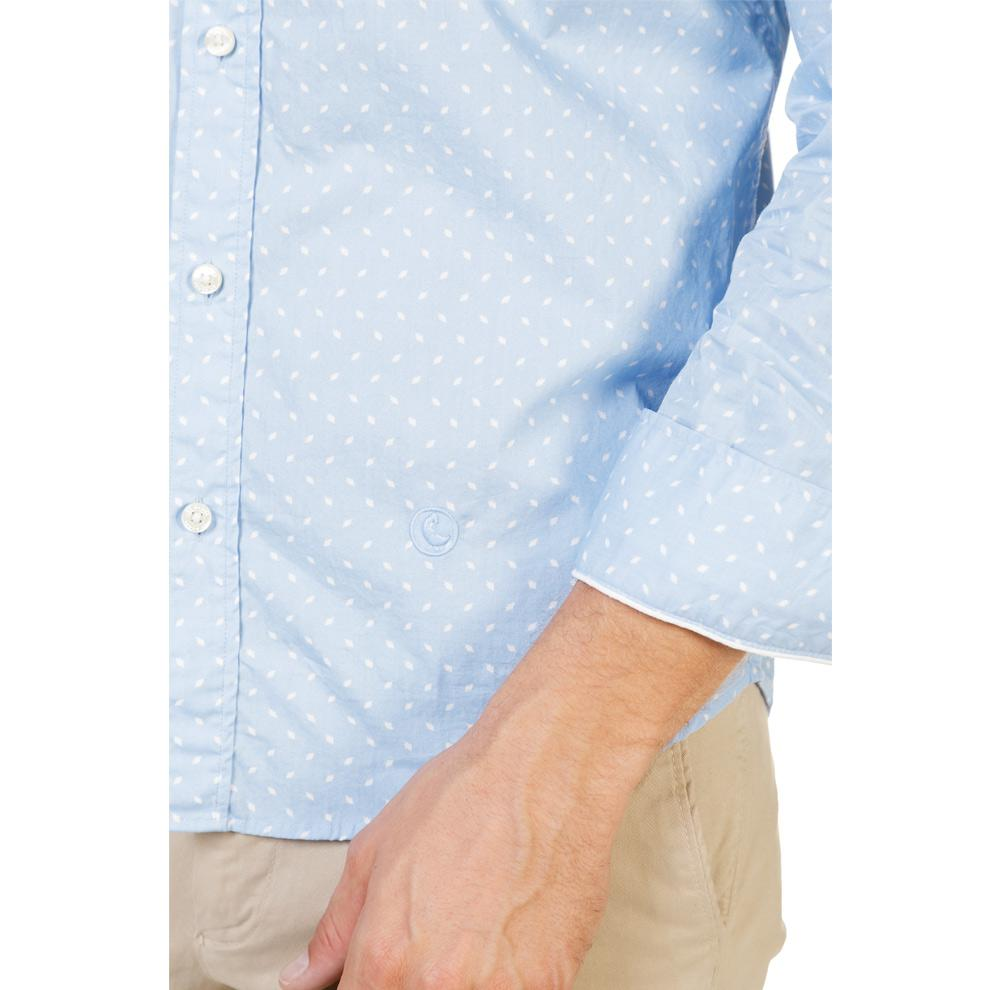teeshirt: (165, 1, 856, 854)
